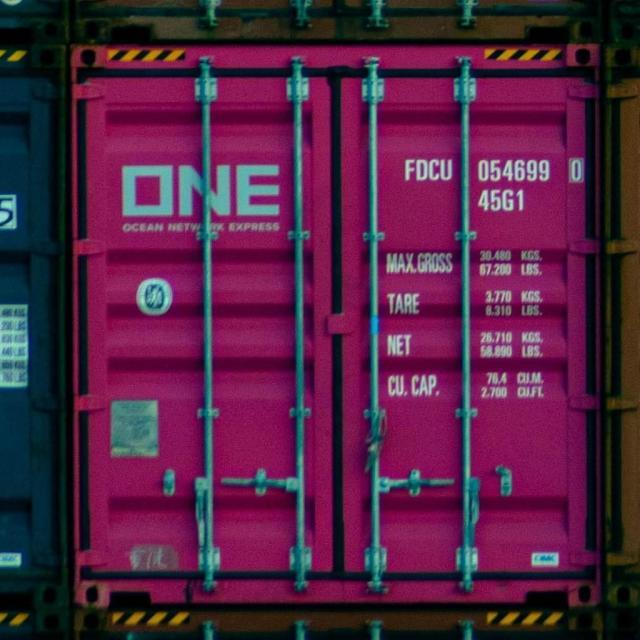ISO: (479, 190, 527, 212)
container_number: (406, 158, 582, 184)
